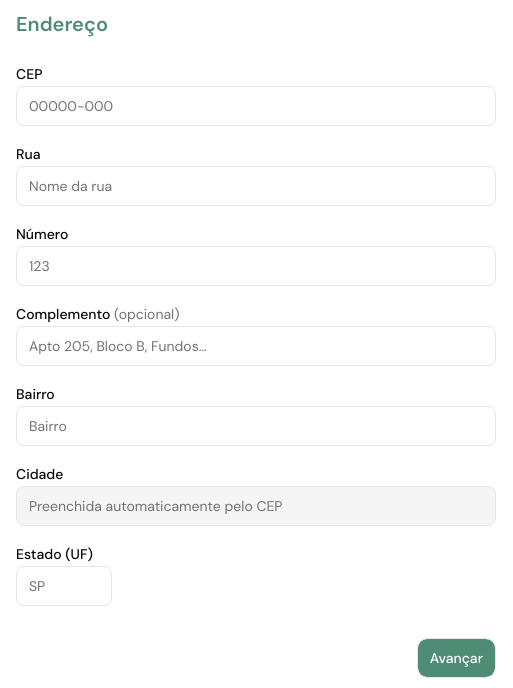
Scenario: ContratarPageClient — passo 0 dry-run validation › should display _form error when validateClientUseCase throws a non-ValidationError
The width and height of the screenshot is (513, 688).
(page scrolled)
Click the button "Avançar". click: (456, 658)
box: x1=417 y1=638 x2=496 y2=678
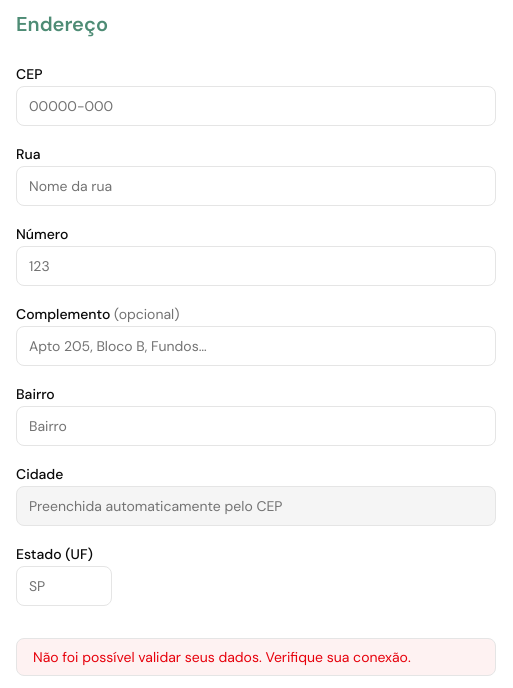
Expected: the text "Não foi possível validar seus dados. Verifique sua conexão." is shown, x1=16 y1=638 x2=496 y2=676
